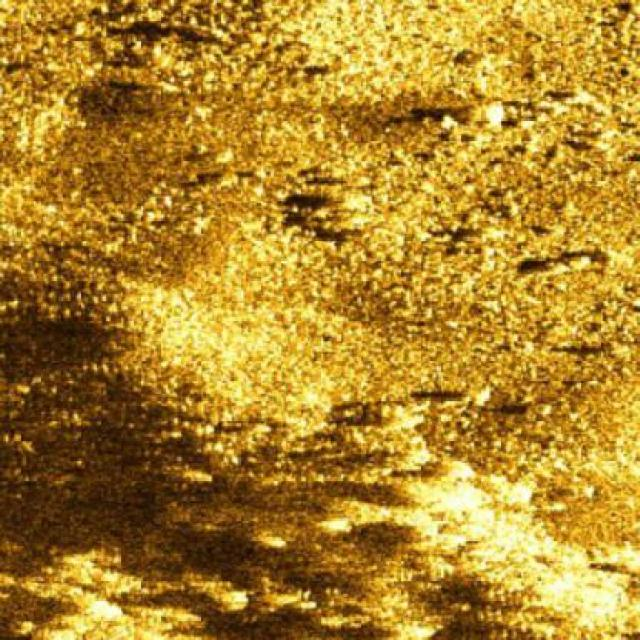bedrock group: (0, 454, 638, 640)
